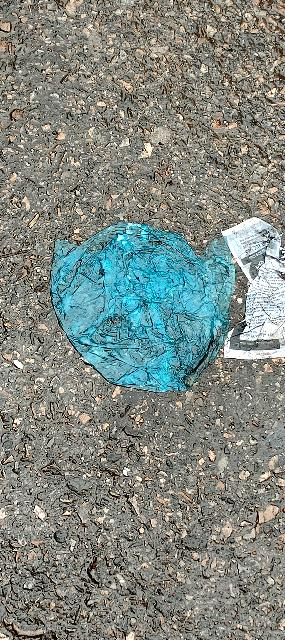polythene: (52, 217, 229, 397)
